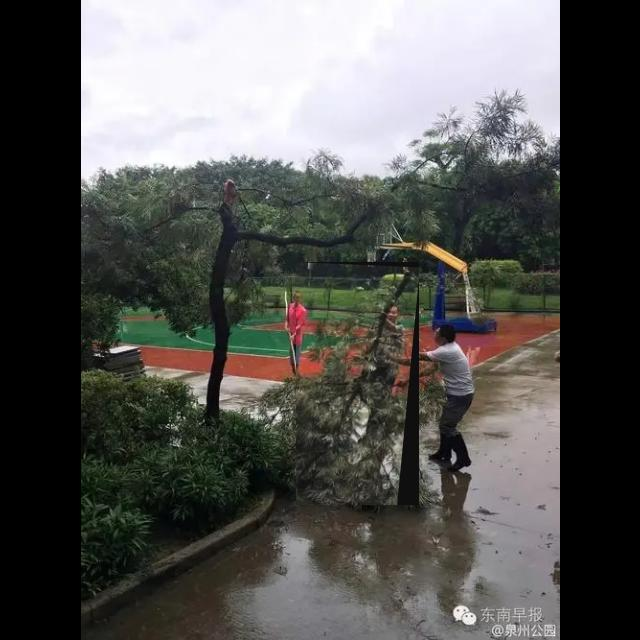Fallen Tree: (296, 262, 420, 506)
